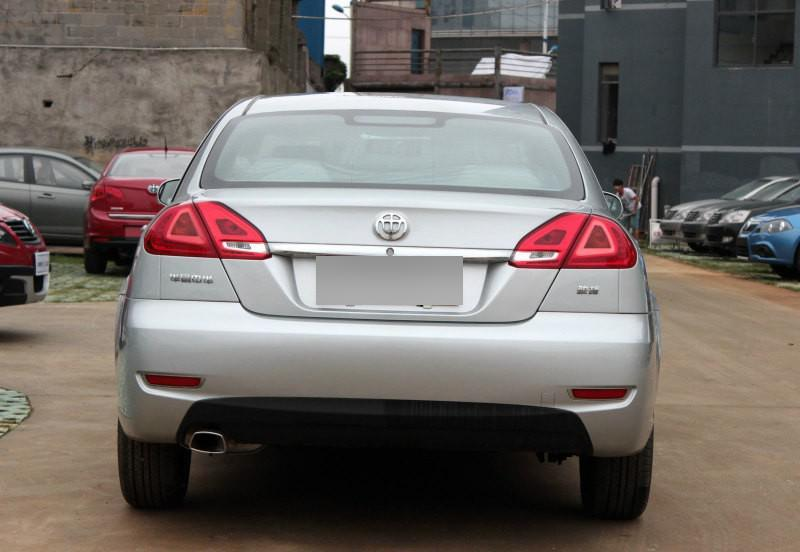Wagon: (114, 92, 660, 522)
